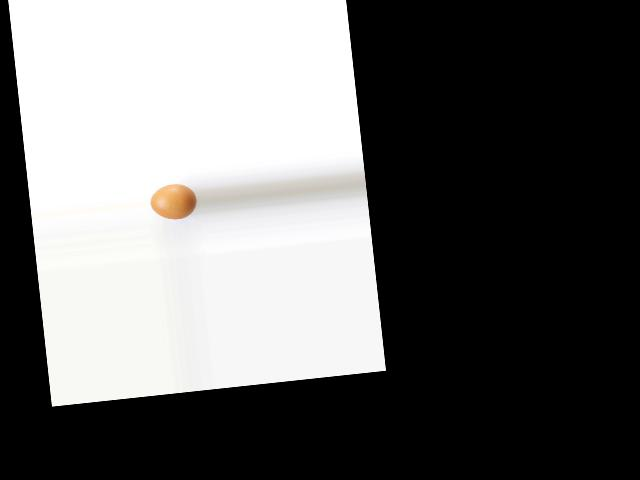egg: (149, 182, 198, 222)
